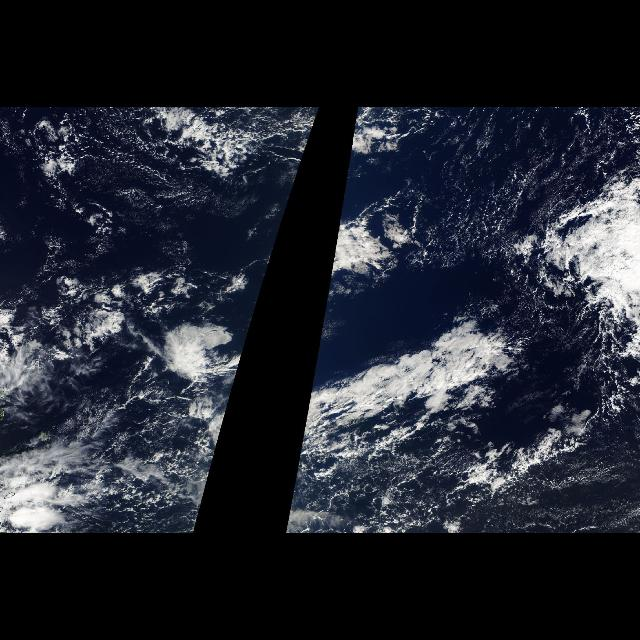Fish: (294, 298, 546, 474), (126, 108, 282, 202), (196, 313, 254, 475)
Gravel: (57, 374, 227, 534), (286, 416, 492, 530)
Sugar: (422, 109, 640, 269)
